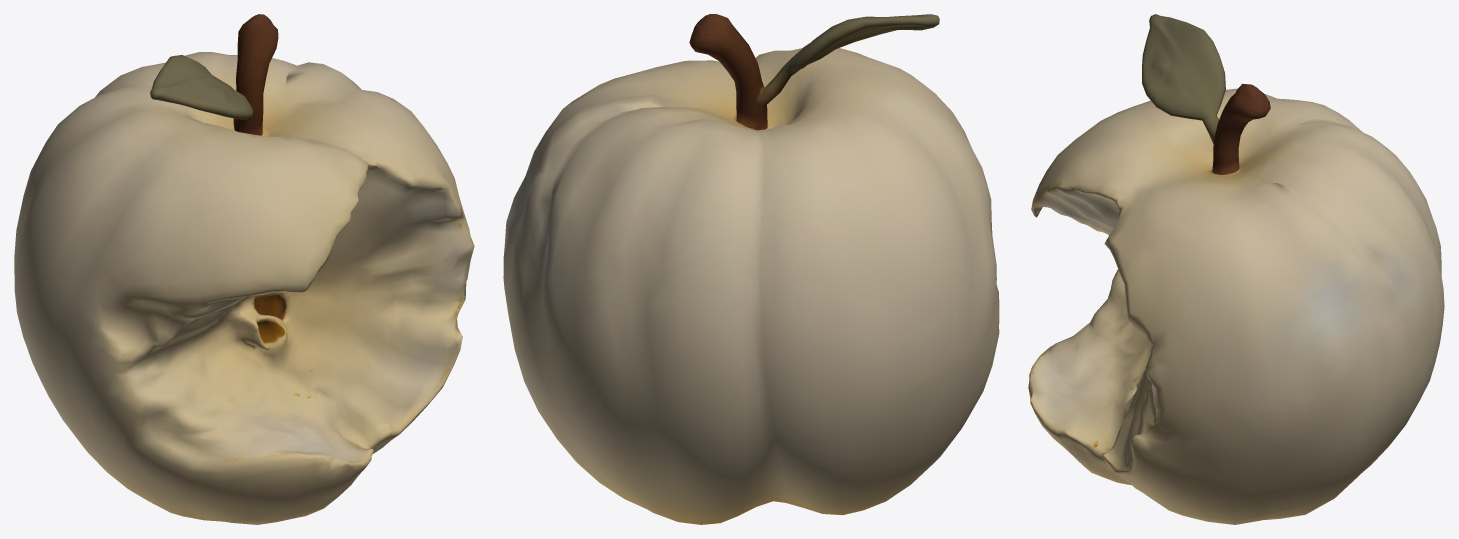
The picture shows the model from 3 angles, left to right: view 1: azimuth 30°, elevation 25°; view 2: azimuth 150°, elevation 25°; view 3: azimuth 270°, elevation 25°; orthographic projection. The views are drawn at different scales.
Visible parts, largest first — view 1: tripo_node_46e4cd46-5cf7-4223-9bc6-cdba5592a010; view 2: tripo_node_46e4cd46-5cf7-4223-9bc6-cdba5592a010; view 3: tripo_node_46e4cd46-5cf7-4223-9bc6-cdba5592a010.
Boxes of the visible parts, x1,y1,x2,y2 form: tripo_node_46e4cd46-5cf7-4223-9bc6-cdba5592a010: (14,14,474,524); tripo_node_46e4cd46-5cf7-4223-9bc6-cdba5592a010: (503,14,999,524); tripo_node_46e4cd46-5cf7-4223-9bc6-cdba5592a010: (1028,14,1444,524).
Size of the model in its own units: 0.9237 by 1 by 0.8904.
1 material, 1 textured.
